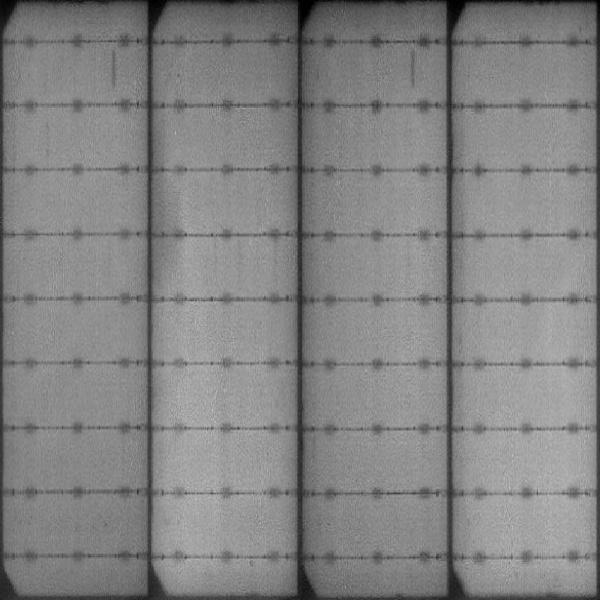scratch: (106, 47, 120, 92), (407, 49, 421, 91)
